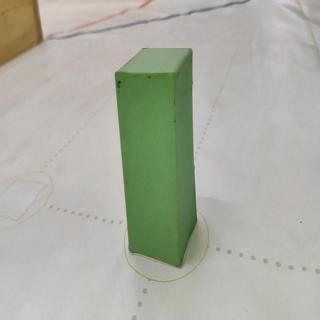greenbox: (113, 45, 200, 269)
